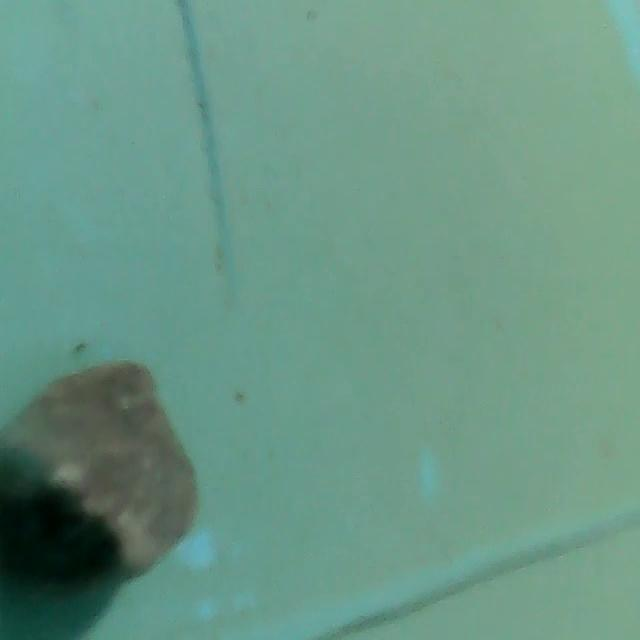rock: (0, 355, 210, 593)
